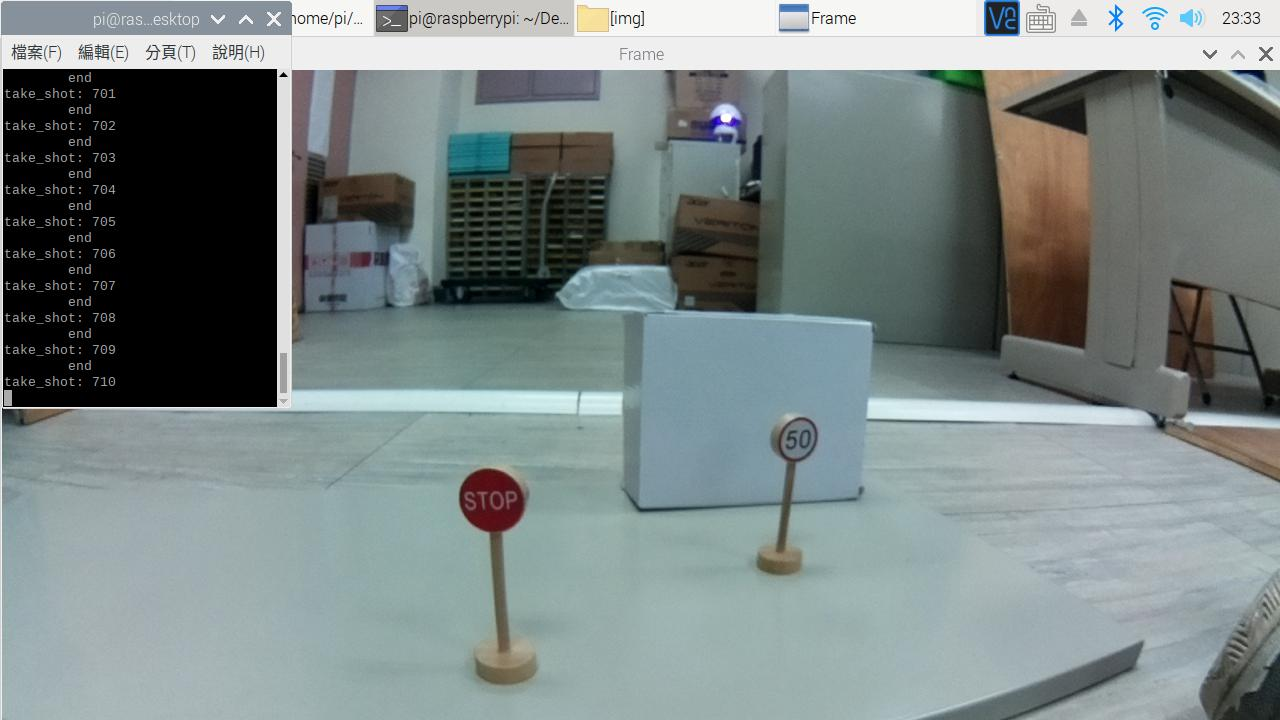Speed50: (765, 411, 831, 466)
Stop: (459, 455, 537, 542)
